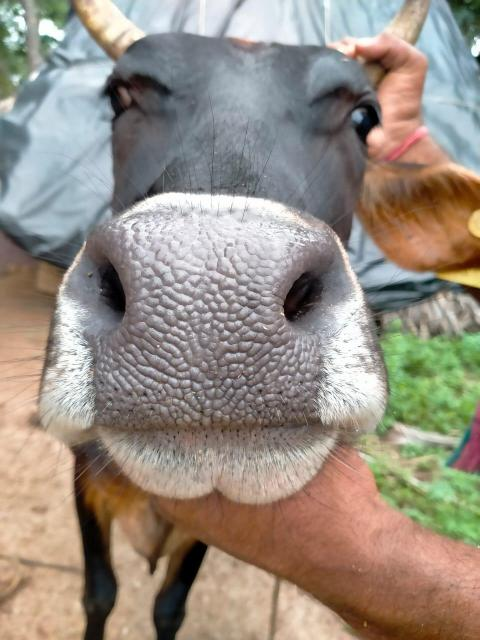Muzzle: (113, 224, 295, 422)
